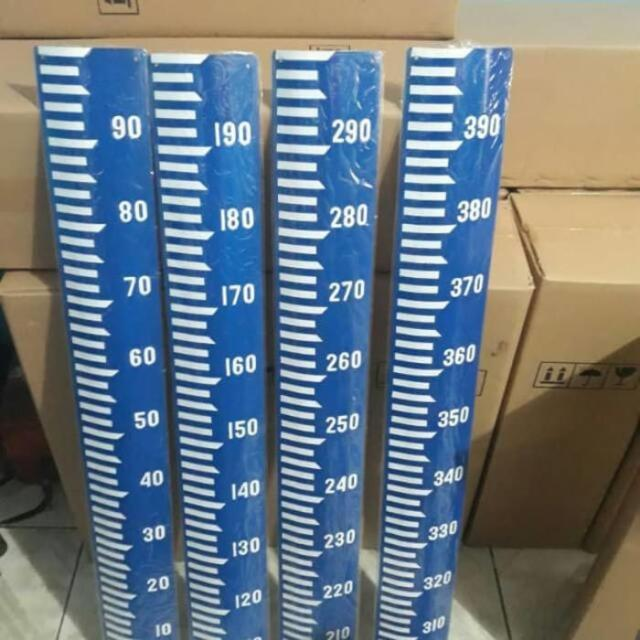10: (150, 616, 172, 640)
20: (146, 570, 172, 600)
30: (142, 521, 170, 548)
40: (140, 464, 168, 492)
50: (132, 403, 160, 433)
60: (128, 341, 160, 373)
70: (123, 270, 154, 300)
80: (115, 194, 149, 228)
90: (109, 109, 145, 145)
staff: (388, 44, 510, 640), (151, 52, 263, 640), (36, 46, 145, 639), (277, 46, 380, 640)
